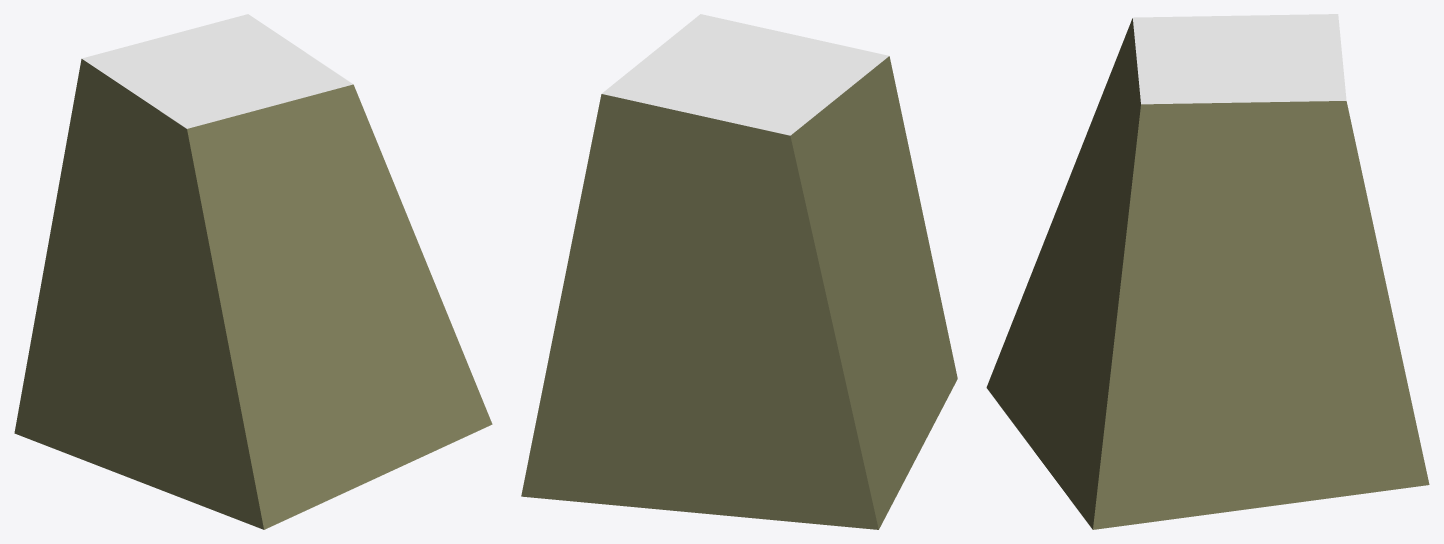
The model's file is Dead_Stump_Snow_01_LOD.fbx.
3 views of the same model, side by side, from view 1: azimuth 30°, elevation 25°; view 2: azimuth 150°, elevation 25°; view 3: azimuth 270°, elevation 25° (orthographic). The views are drawn at different scales.
Visible parts, largest first — view 1: Dead_Stump_Snow_01_LOD0; view 2: Dead_Stump_Snow_01_LOD0; view 3: Dead_Stump_Snow_01_LOD0.
Part boxes in pixels (bbox=[...]): Dead_Stump_Snow_01_LOD0: bbox=[14, 14, 492, 529]; Dead_Stump_Snow_01_LOD0: bbox=[521, 14, 957, 529]; Dead_Stump_Snow_01_LOD0: bbox=[986, 14, 1429, 529].
Size of what is drawn, in the model's own units: 140 by 128 by 140.
